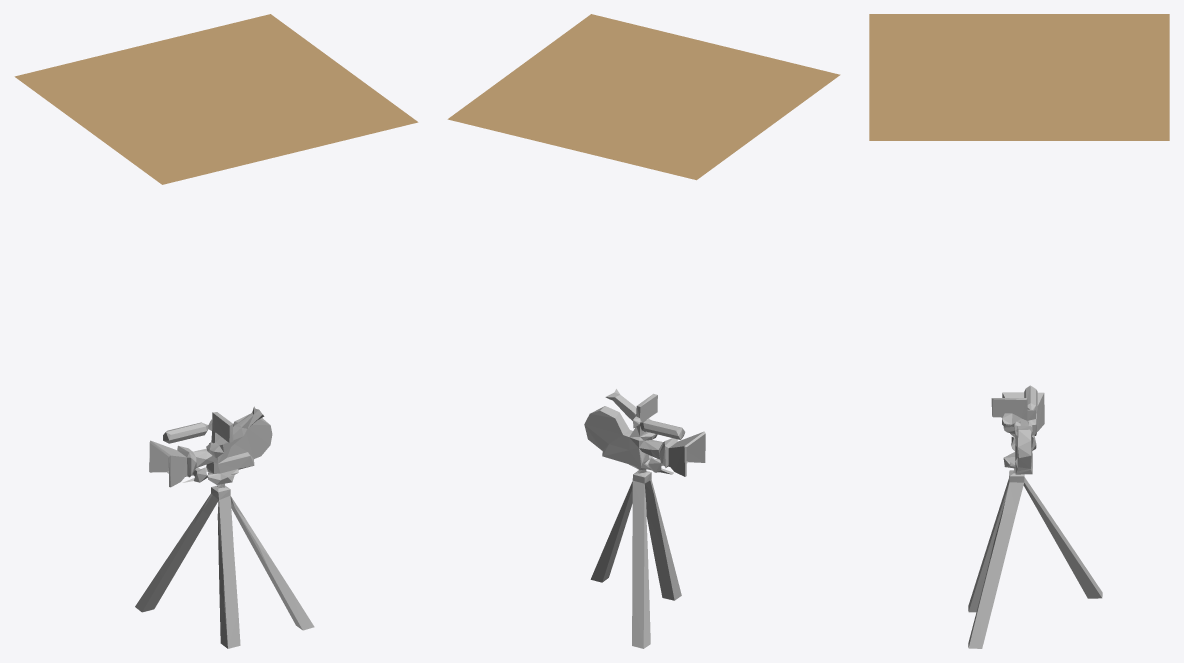
The model's file is init.glb.
3 renders of one model, left to right at view 1: azimuth 30°, elevation 25°; view 2: azimuth 150°, elevation 25°; view 3: azimuth 270°, elevation 25°, orthographic. The views are drawn at different scales.
Visible parts, largest first — view 1: world, object.obj; view 2: world, object.obj; view 3: world, object.obj.
Part boxes in pixels (x1=…): world: x1=14, y1=14, x2=418, y2=184; object.obj: x1=135, y1=406, x2=314, y2=648; world: x1=447, y1=14, x2=840, y2=180; object.obj: x1=584, y1=389, x2=705, y2=648; world: x1=869, y1=14, x2=1169, y2=140; object.obj: x1=968, y1=385, x2=1102, y2=648.
Size of the model in its own units: 0.5085 by 1 by 0.5085.
